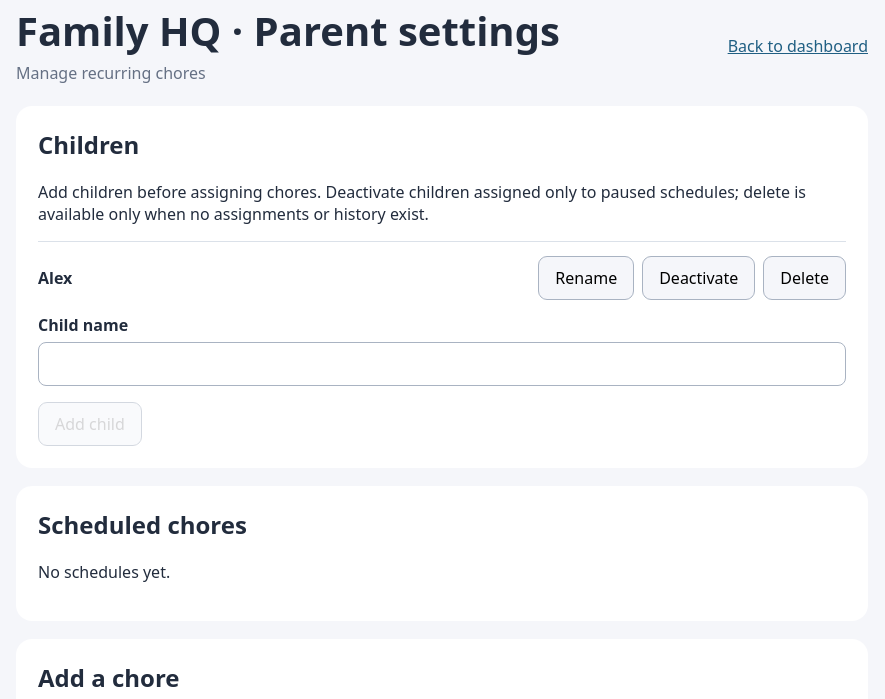
Test: parent settings child controls › retains a child and shows an error when a status update fails
The image size is (885, 699).
Click the button "Deactivate". click: (699, 278)
box: top-left (642, 256), bottom-right (755, 300)
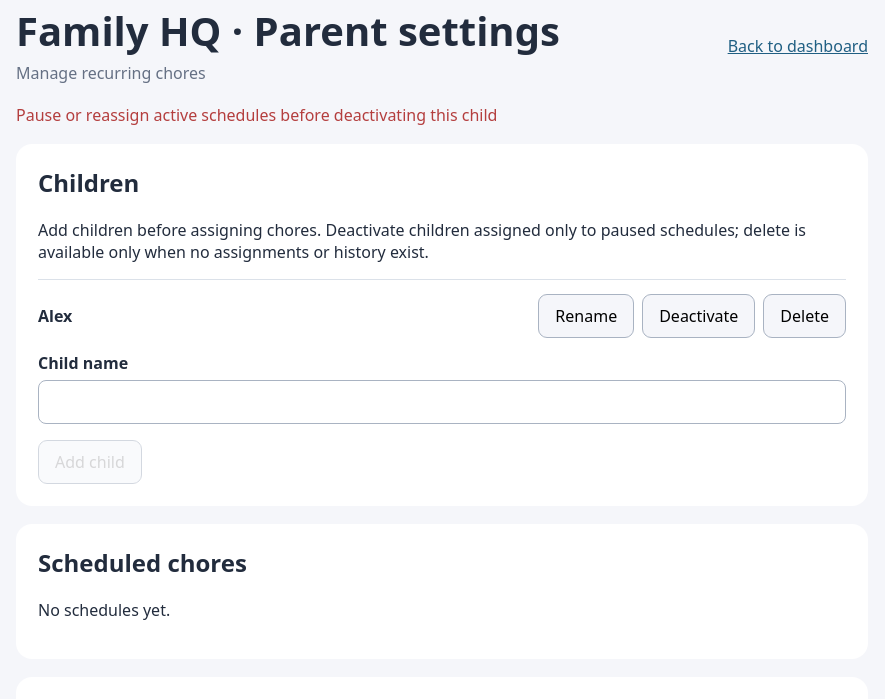
Check: the button "Deactivate" is shown, box top-left (642, 294), bottom-right (755, 338)
Check: the message reads "Pause or reassign active schedules before deactivating this child", box top-left (16, 104), bottom-right (497, 126)
